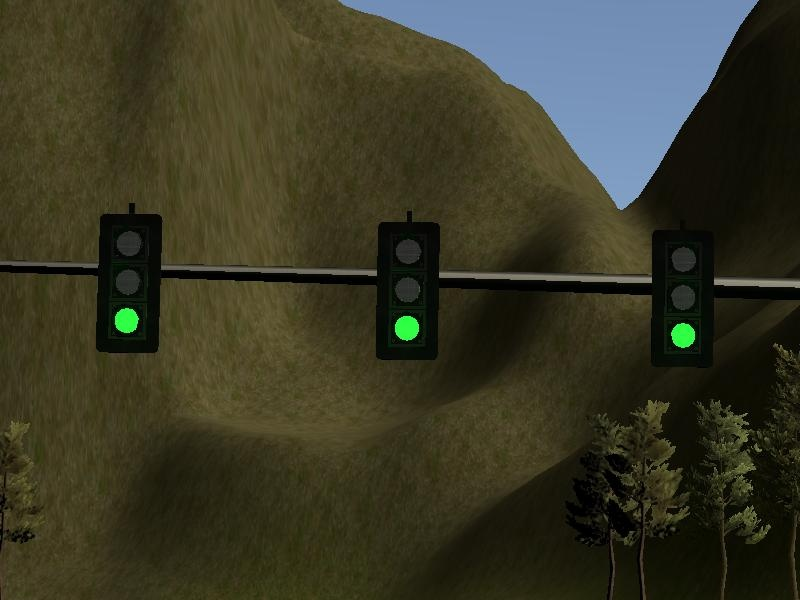GREEN: (377, 223, 439, 363), (97, 214, 159, 354), (651, 232, 713, 363)
